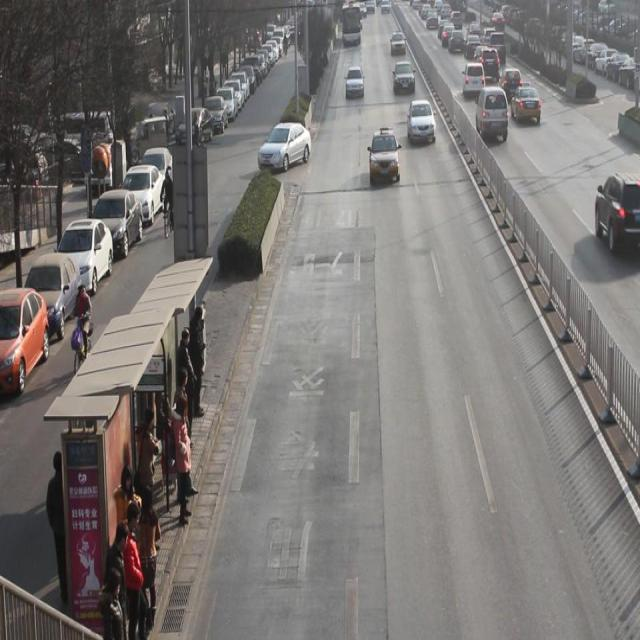car: (594, 173, 640, 253), (258, 121, 312, 172), (369, 128, 399, 186), (408, 99, 436, 146), (512, 82, 541, 125), (393, 61, 415, 97), (464, 64, 486, 98), (345, 66, 364, 102), (480, 48, 500, 82), (500, 70, 522, 98), (490, 31, 506, 66), (464, 34, 481, 60), (448, 30, 464, 54), (391, 32, 405, 58), (442, 24, 454, 47), (490, 12, 505, 29), (475, 46, 487, 64), (481, 30, 495, 45), (468, 21, 481, 35)
truck: (474, 88, 508, 144)
van: (340, 1, 359, 46)
